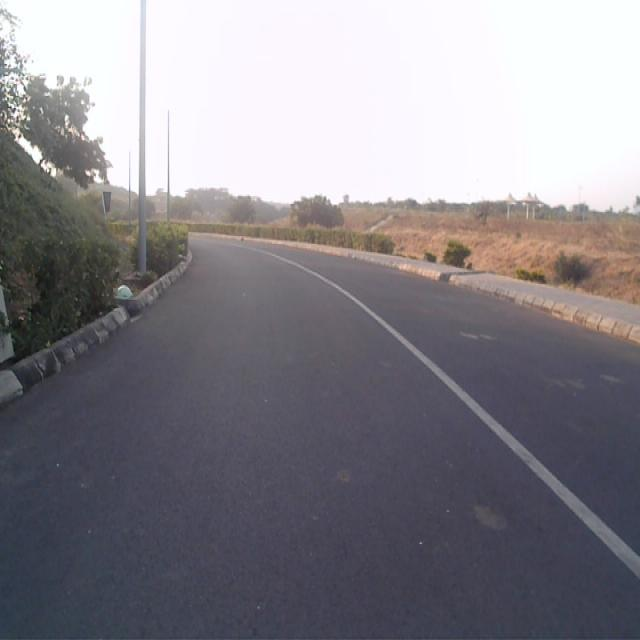lane: (0, 235, 640, 640)
